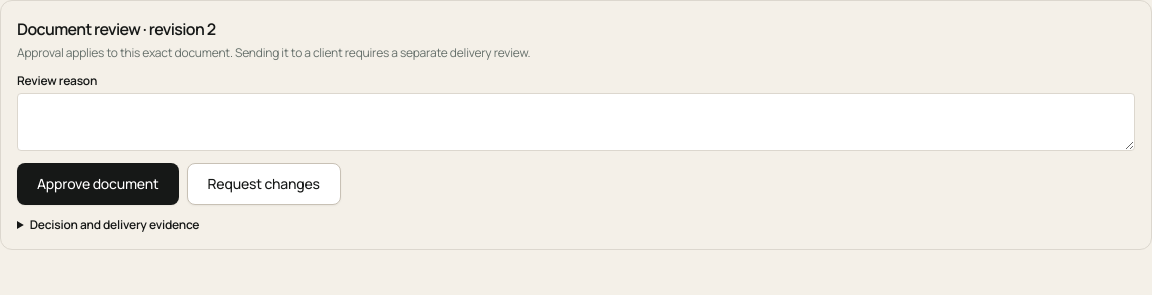
Test: retains unknown delivery evidence and surfaces a rejected decision
Click the button "Approve document" at x=98, y=184, box 17,163 -> 179,205
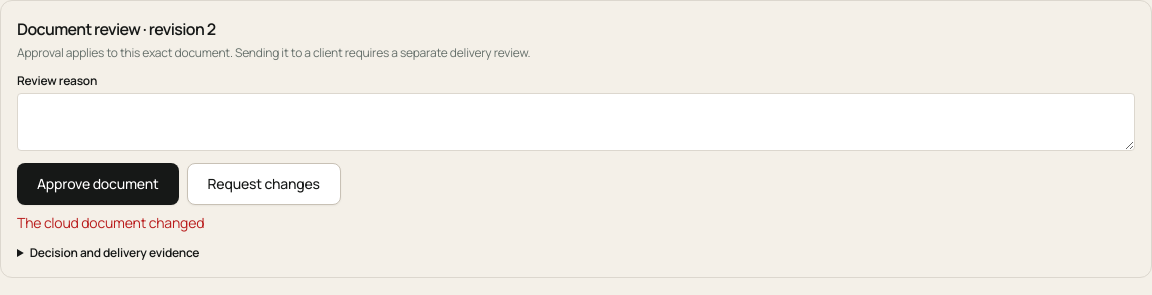
Check: the message reads "The cloud document changed", box 17,213 -> 204,232
